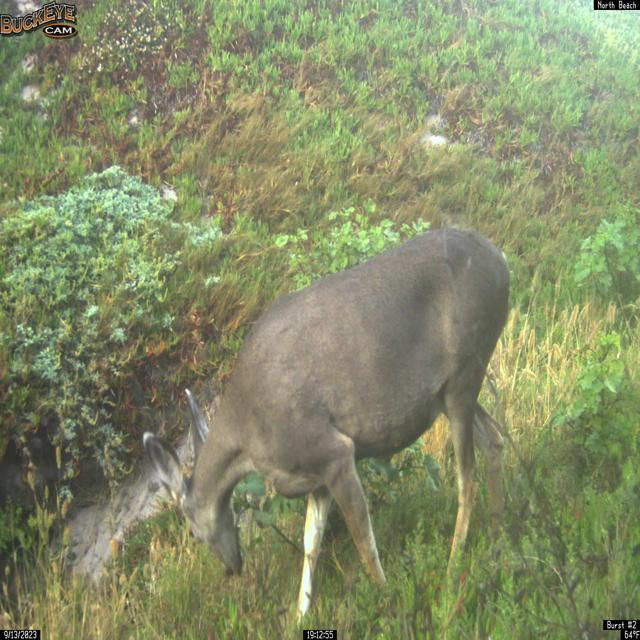deer: (142, 226, 511, 632)
